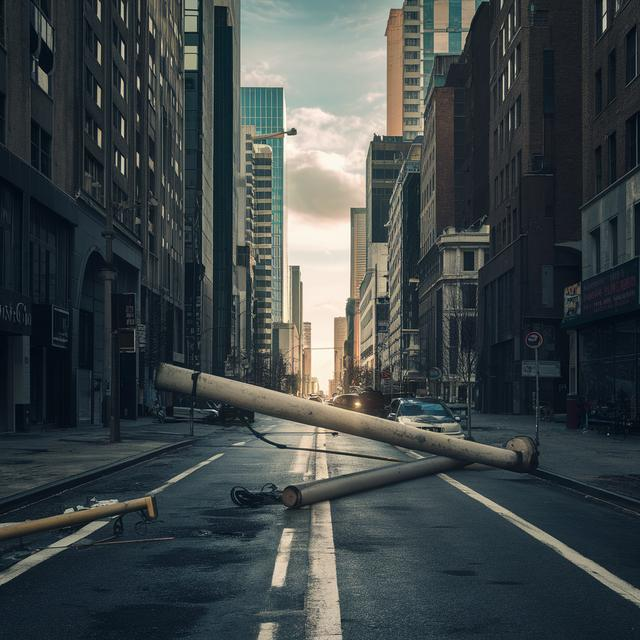Inclined Pole: (152, 357, 539, 470), (230, 454, 473, 514), (1, 489, 162, 545)
